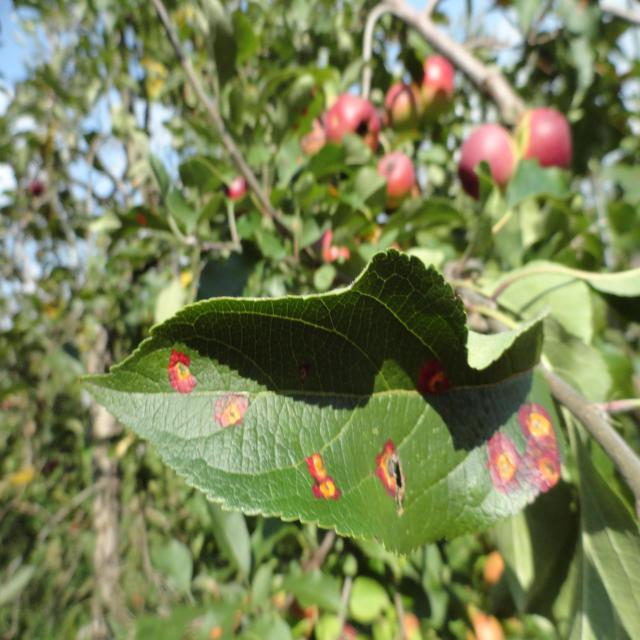rust: (77, 247, 567, 558)
